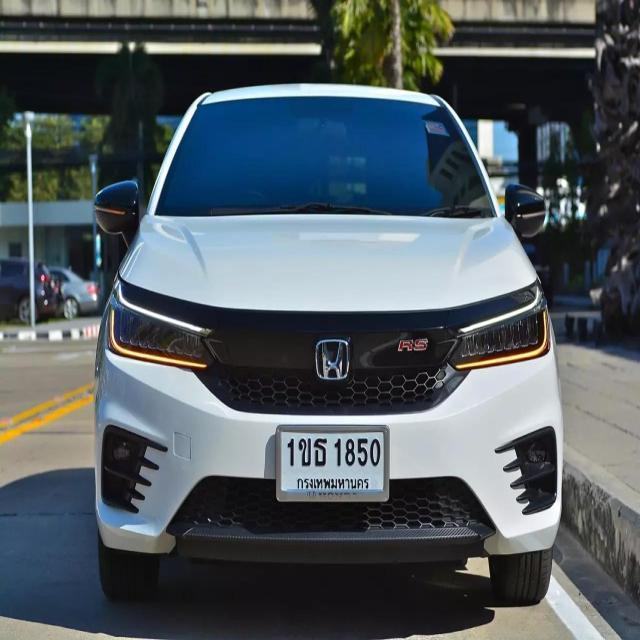Hatchback: (95, 85, 562, 603)
